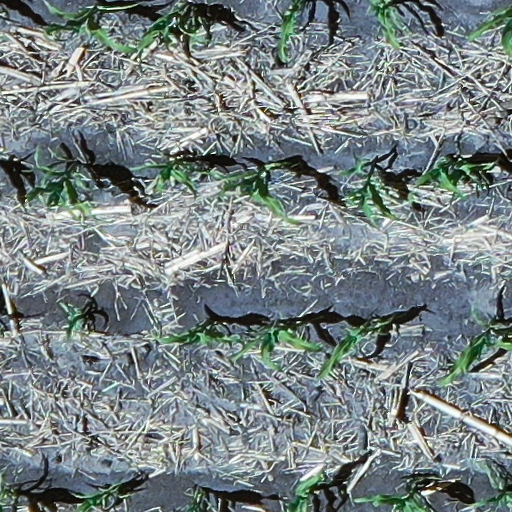planta: (204, 163, 300, 223), (41, 6, 137, 55), (231, 325, 321, 371), (316, 321, 383, 380), (137, 4, 209, 53), (341, 160, 393, 224), (416, 156, 492, 199), (25, 165, 90, 213), (147, 160, 203, 194), (154, 325, 244, 346)
